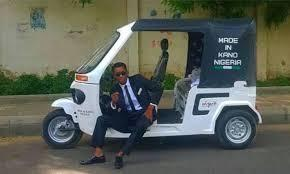keke: (41, 15, 264, 172)
